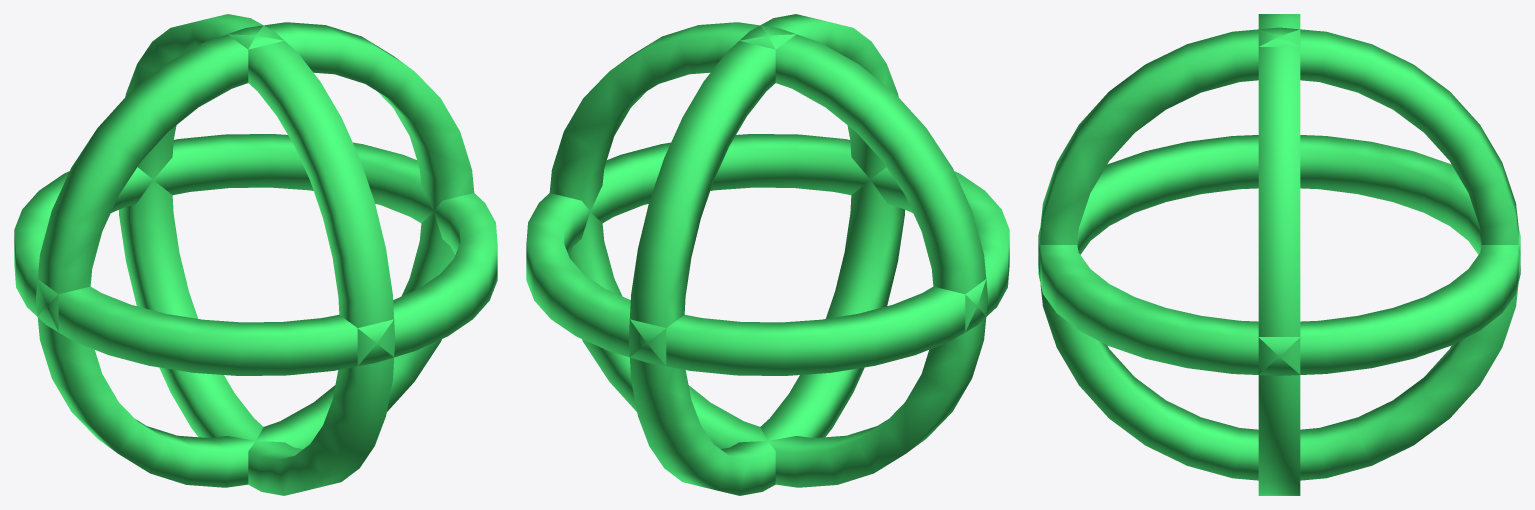
The model's file is Ball-6.dae.
3 views of the same model, side by side, from view 1: azimuth 30°, elevation 25°; view 2: azimuth 150°, elevation 25°; view 3: azimuth 270°, elevation 25° (orthographic).
Parts seen in each view (by area): view 1: Ball; view 2: Ball; view 3: Ball.
Part boxes in pixels (bbox=[...]): Ball: bbox=[14, 14, 497, 495]; Ball: bbox=[526, 14, 1009, 495]; Ball: bbox=[1038, 14, 1520, 495].
Size of the model in its own units: 0.046 by 0.046 by 0.046.
